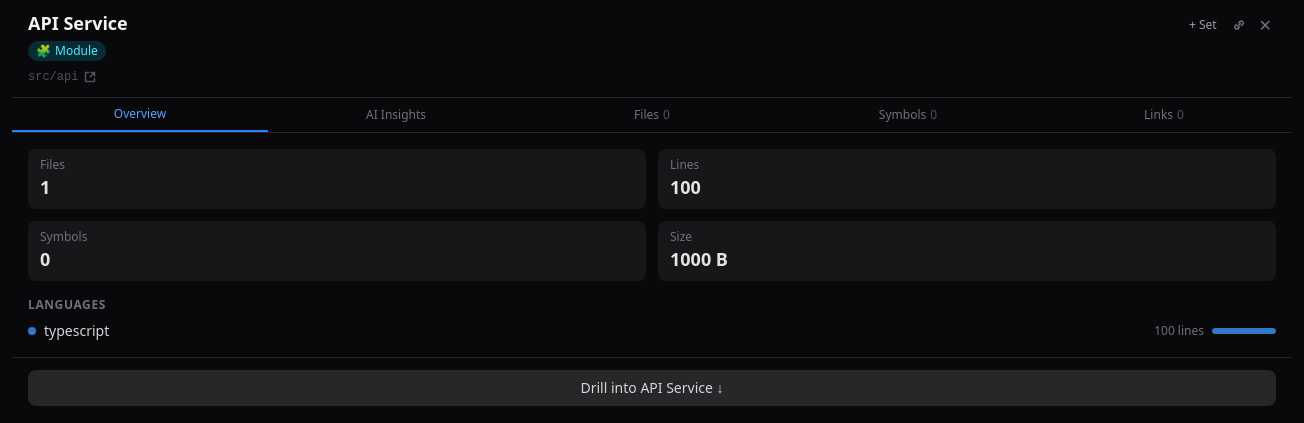
Test: P5-3 backward compatibility › shows structured user flows even when no narrative summary was supplied
Click the button "AI Insights".
click(396, 115)  # box [268, 98, 524, 132]
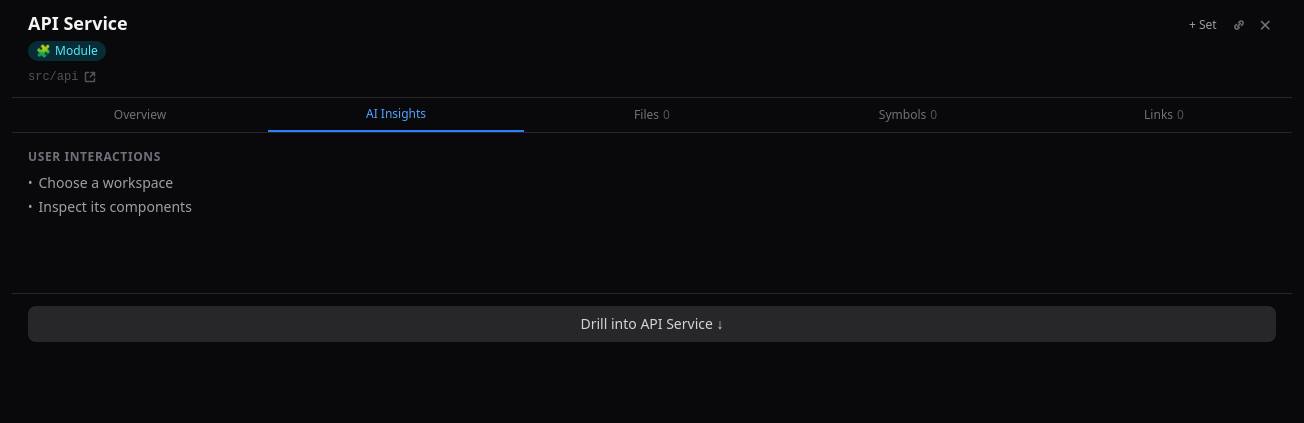
Expected: the text "Choose a workspace" is shown, [38, 173, 173, 193]
Expected: the text "Inspect its components" is shown, [38, 197, 192, 217]
